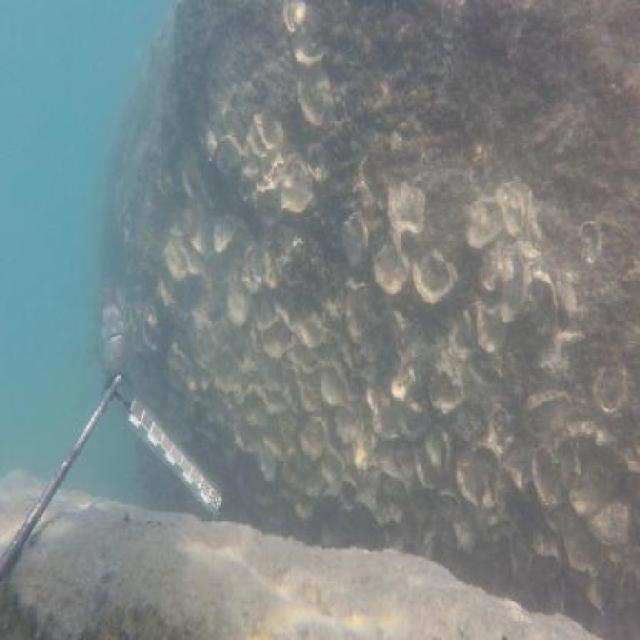acanthopagrus_palmaris: (94, 284, 126, 379)
